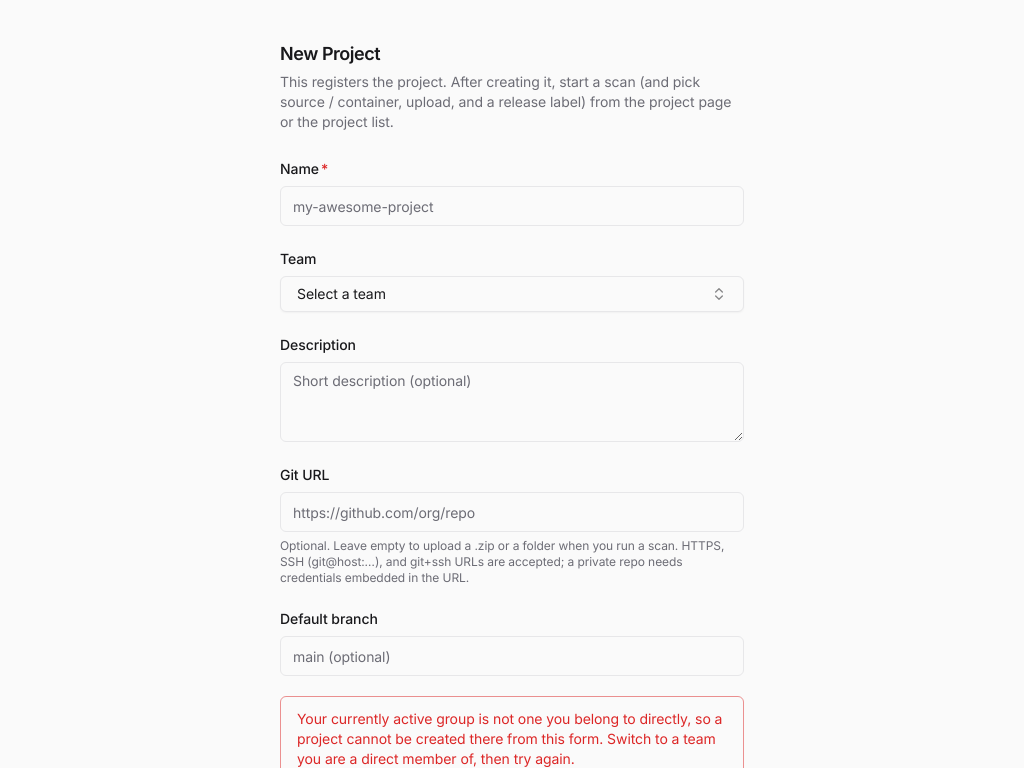
Test: switching teams while the create form is open › blocks submission instead of misattributing, when the active group is reachable only through the cascade
The width and height of the screenshot is (1024, 768).
Click the dropdown with test id "project-team-combobox-trigger". click: point(341, 294)
box: [280,276,744,312]
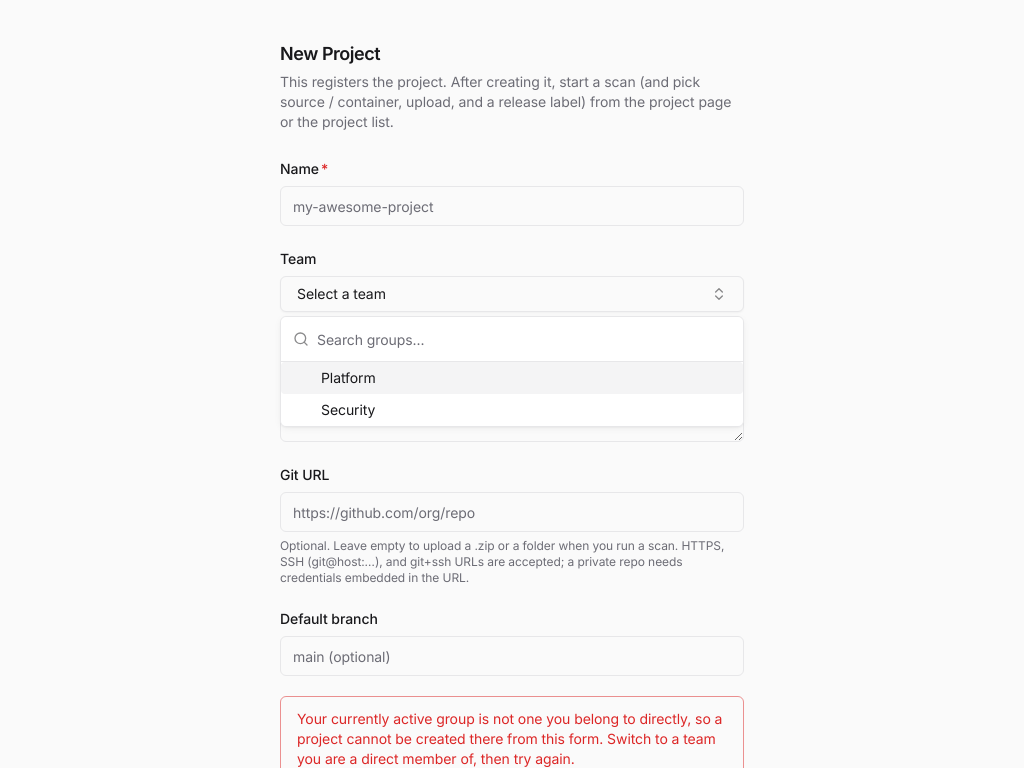
Click the option with test id "project-team-combobox-option". click: point(348, 410)
box: [321,401,375,418]
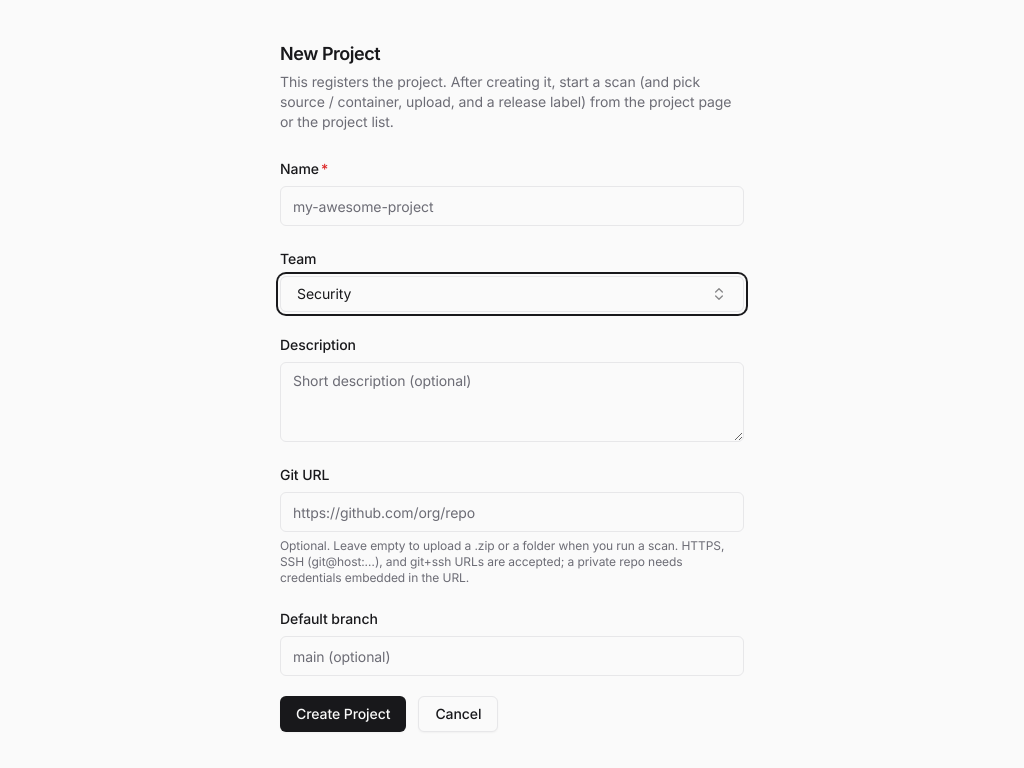
expect the dropdown with test id "project-team-combobox-trigger" reads "Security": met, box [280,276,744,312]
expect the button with test id "project-create-submit" is enabled: met, box [280,696,406,732]
